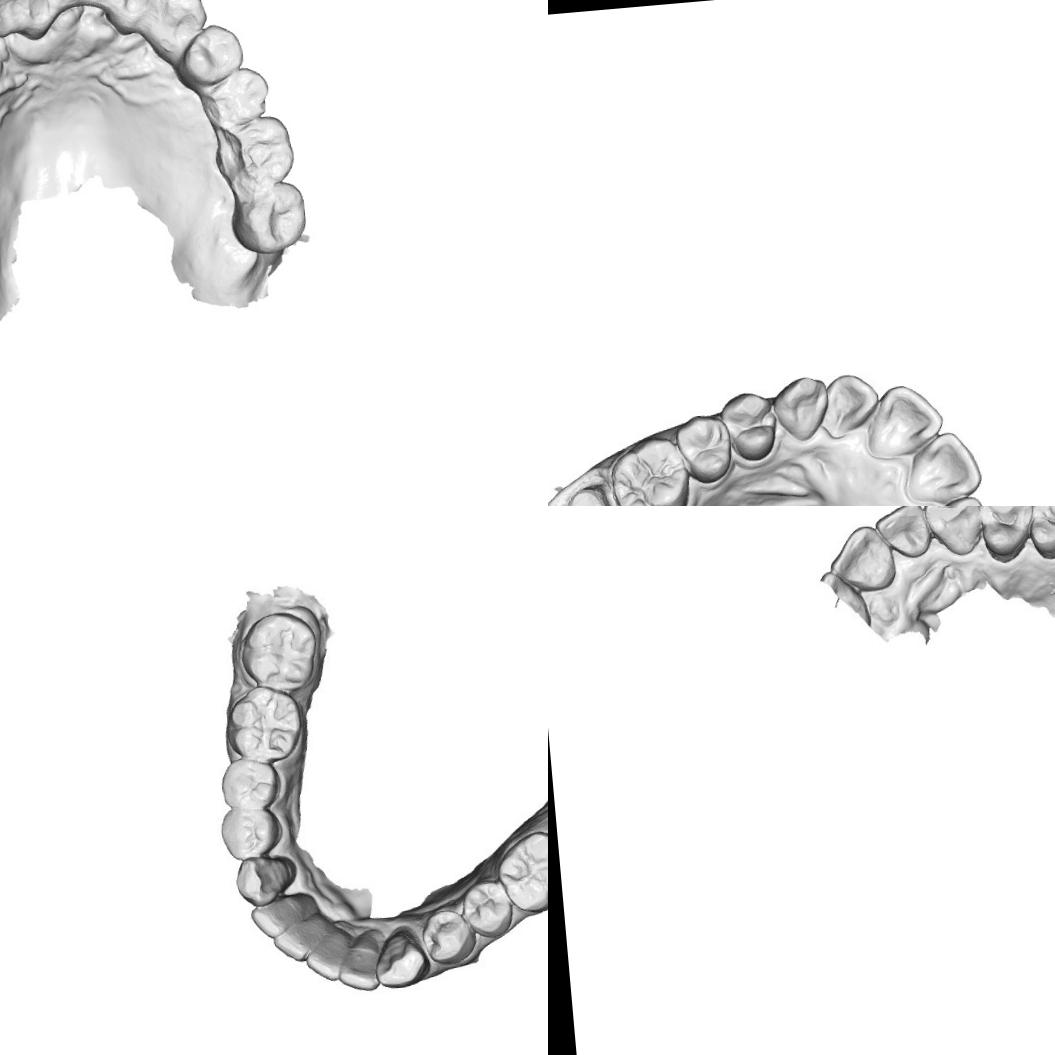canine: (368, 918, 431, 991), (769, 374, 830, 444), (230, 854, 296, 907), (921, 506, 985, 555), (148, 0, 209, 51)
crown: (563, 483, 613, 506)
incisor: (826, 521, 898, 594), (865, 386, 941, 455), (906, 434, 982, 503), (266, 914, 334, 966), (873, 506, 934, 563), (827, 368, 877, 436), (332, 928, 382, 994), (247, 894, 315, 942), (301, 927, 352, 984), (1, 0, 69, 37), (113, 0, 167, 24)
molar: (236, 607, 321, 695), (210, 112, 296, 192), (226, 682, 306, 766), (226, 179, 312, 257), (609, 437, 687, 506), (492, 825, 548, 918)
premolar: (199, 62, 273, 132), (674, 413, 738, 486), (180, 20, 246, 88), (720, 388, 780, 462), (216, 752, 282, 814), (416, 905, 480, 967), (217, 804, 285, 861), (456, 877, 516, 938), (977, 506, 1035, 562), (1023, 506, 1055, 561)
